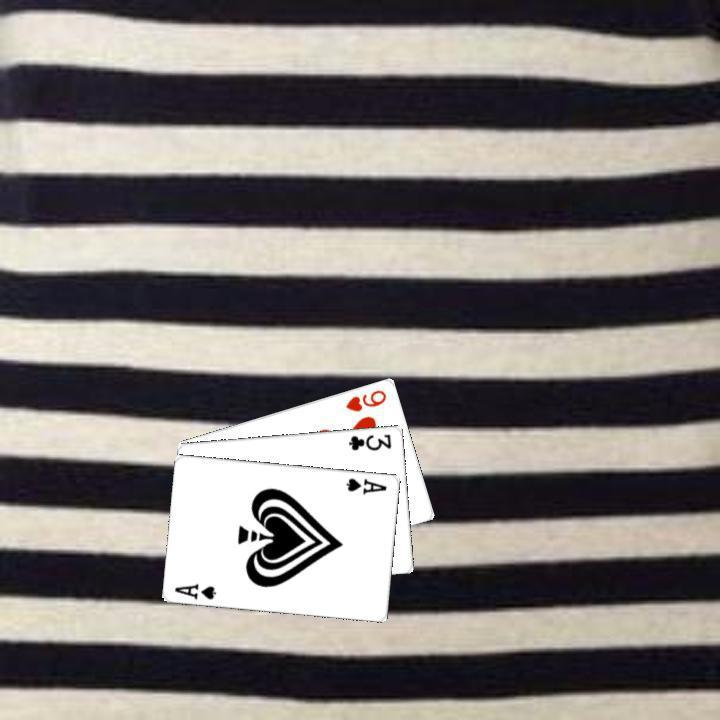3: (345, 429, 393, 452)
9: (341, 385, 389, 413)
A: (342, 473, 389, 496), (170, 579, 219, 601)
